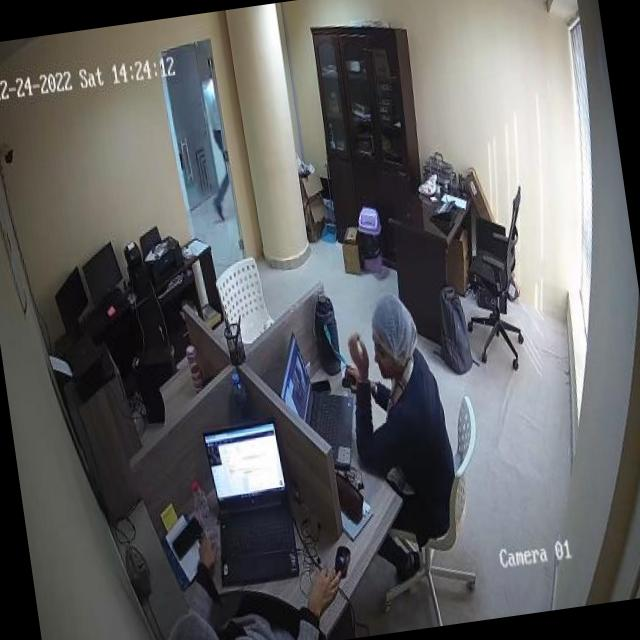hairnet: (366, 290, 419, 362), (162, 610, 224, 640)
